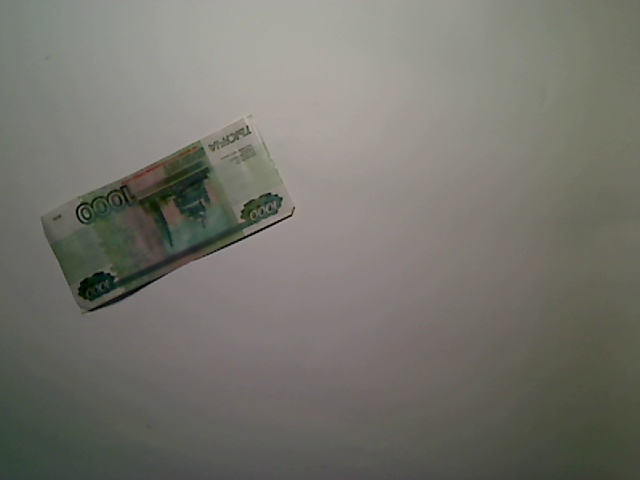banknotes: (38, 106, 303, 320)
